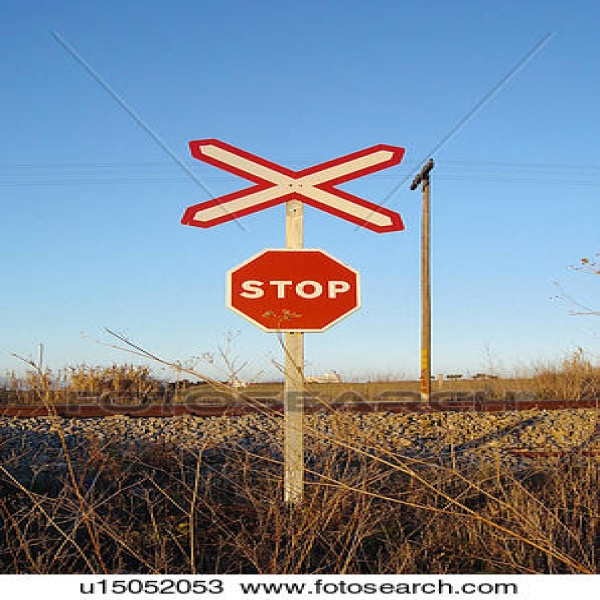stop: (231, 249, 362, 333)
